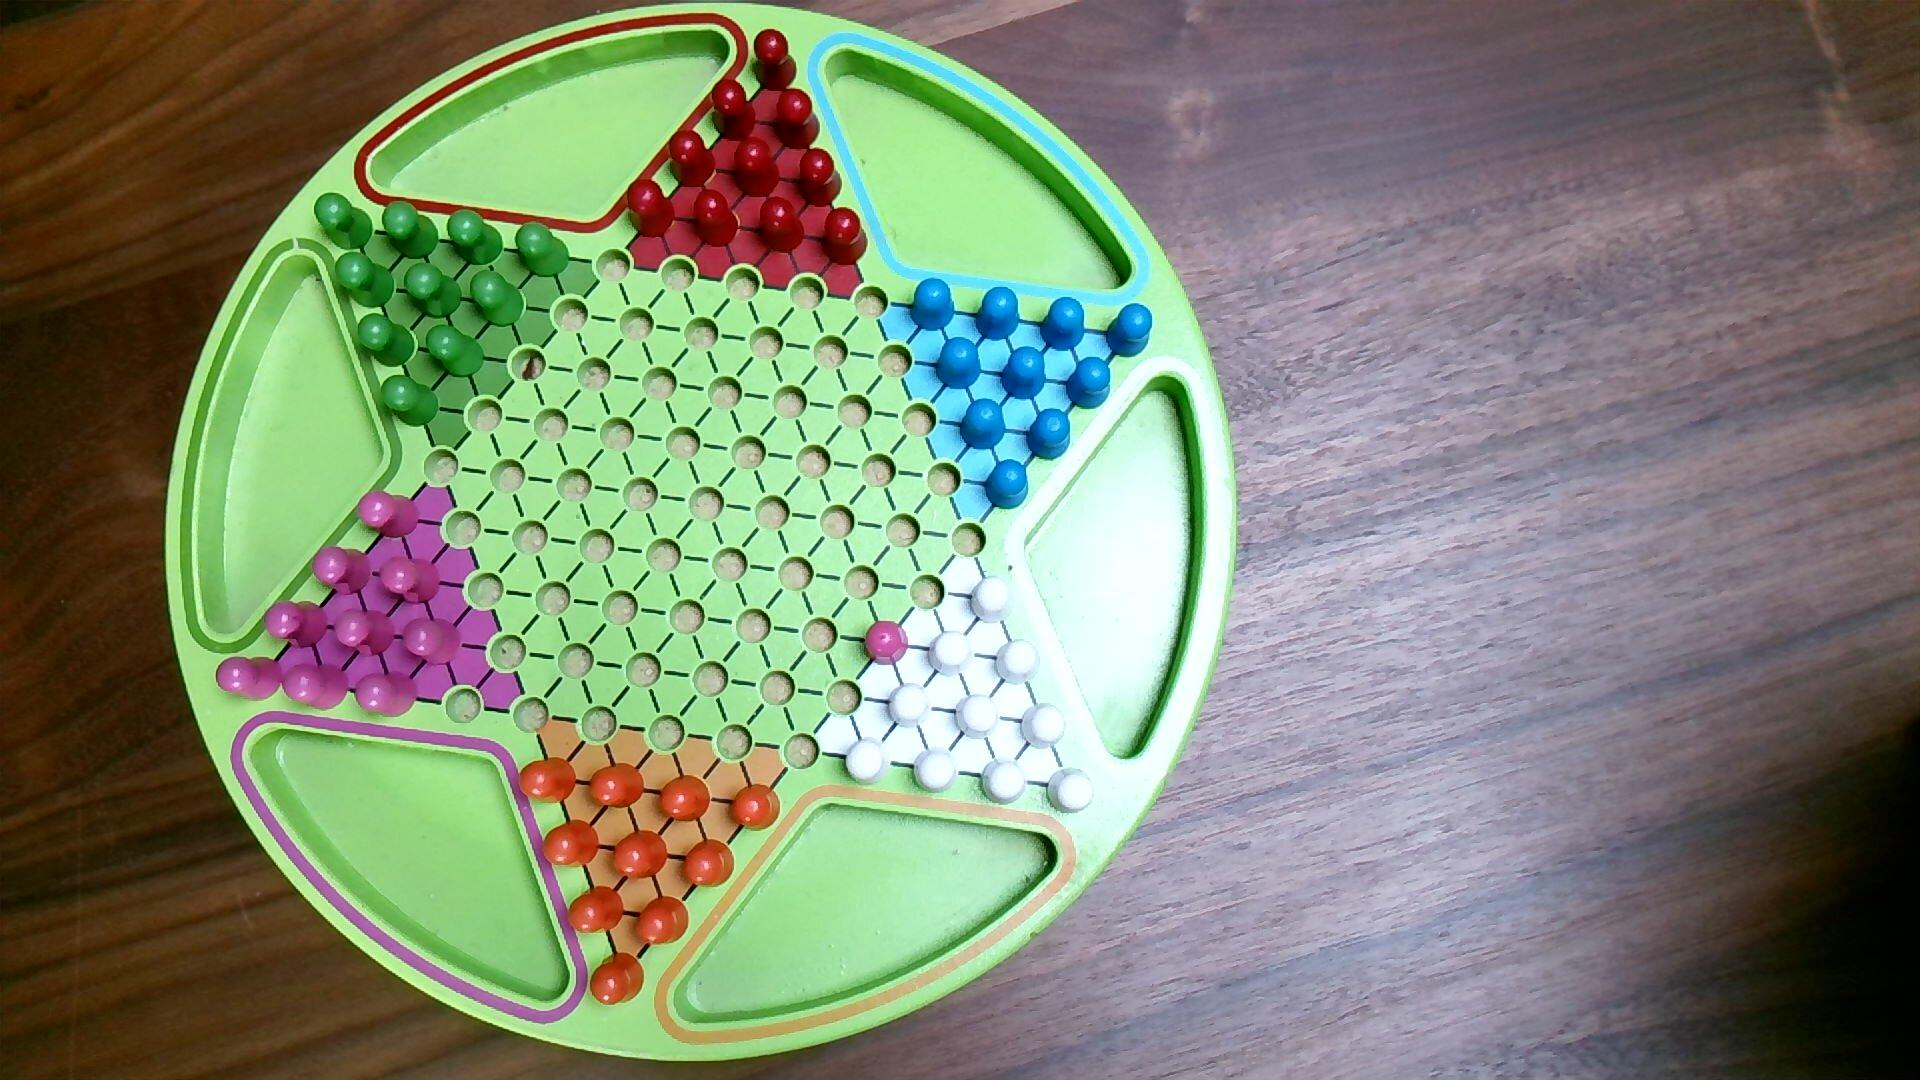B: (1104, 302, 1155, 360), (1000, 345, 1050, 404), (934, 335, 984, 392), (959, 397, 1007, 454), (1025, 406, 1073, 463), (1064, 355, 1113, 411), (909, 277, 957, 334), (1039, 295, 1087, 353), (975, 286, 1022, 343), (982, 458, 1031, 512)
G: (380, 199, 440, 262), (314, 193, 376, 253), (334, 251, 397, 310), (404, 261, 464, 320), (425, 322, 487, 380), (468, 269, 527, 328), (513, 222, 572, 280), (356, 313, 417, 369), (447, 208, 505, 266), (378, 375, 440, 429)
O: (589, 951, 647, 1009), (541, 818, 603, 872), (611, 828, 671, 882), (564, 885, 626, 938), (632, 894, 691, 948), (655, 773, 713, 825), (517, 756, 578, 806), (680, 837, 736, 891), (588, 762, 647, 812), (727, 783, 783, 833)
R: (773, 87, 823, 152), (709, 78, 760, 142), (752, 26, 799, 94), (819, 206, 870, 268), (626, 177, 676, 240), (732, 136, 782, 199), (667, 128, 717, 189), (692, 189, 740, 251), (796, 146, 844, 208), (757, 196, 806, 255)
R2: (262, 599, 331, 651), (282, 661, 351, 713), (355, 489, 423, 541), (332, 607, 398, 659), (401, 616, 465, 669), (378, 554, 443, 607), (352, 670, 419, 720), (215, 655, 285, 703), (311, 545, 373, 597), (862, 620, 911, 667)
W: (843, 736, 894, 789), (977, 756, 1029, 808), (1044, 766, 1097, 818), (968, 574, 1017, 626), (994, 637, 1043, 688), (1019, 702, 1068, 752), (911, 745, 959, 796), (927, 629, 975, 680), (886, 680, 934, 731), (953, 692, 1001, 742)
